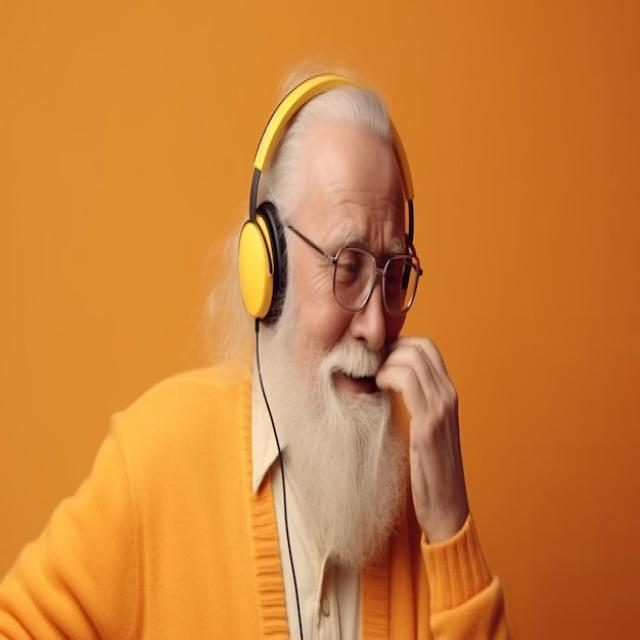Headphone: (237, 69, 417, 330)
